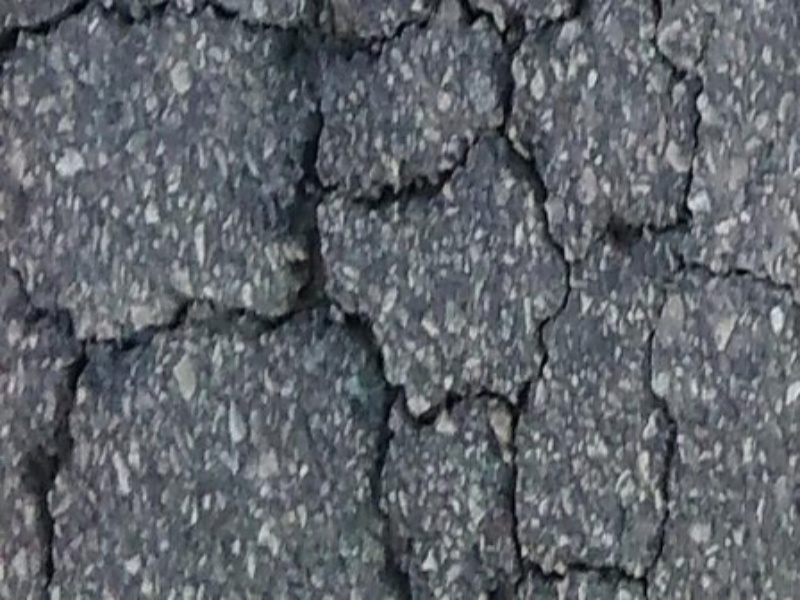crack: (13, 263, 397, 383), (499, 125, 561, 582), (341, 301, 440, 587), (21, 333, 129, 583), (8, 7, 432, 67), (270, 18, 333, 299), (635, 245, 685, 587), (641, 9, 715, 219), (336, 128, 485, 217), (481, 12, 582, 121), (542, 207, 690, 271), (390, 383, 529, 429), (671, 252, 793, 302), (513, 560, 647, 588)
